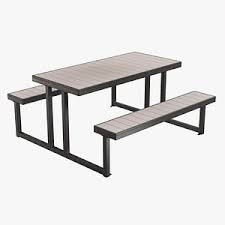obstacle: (11, 49, 215, 170)
